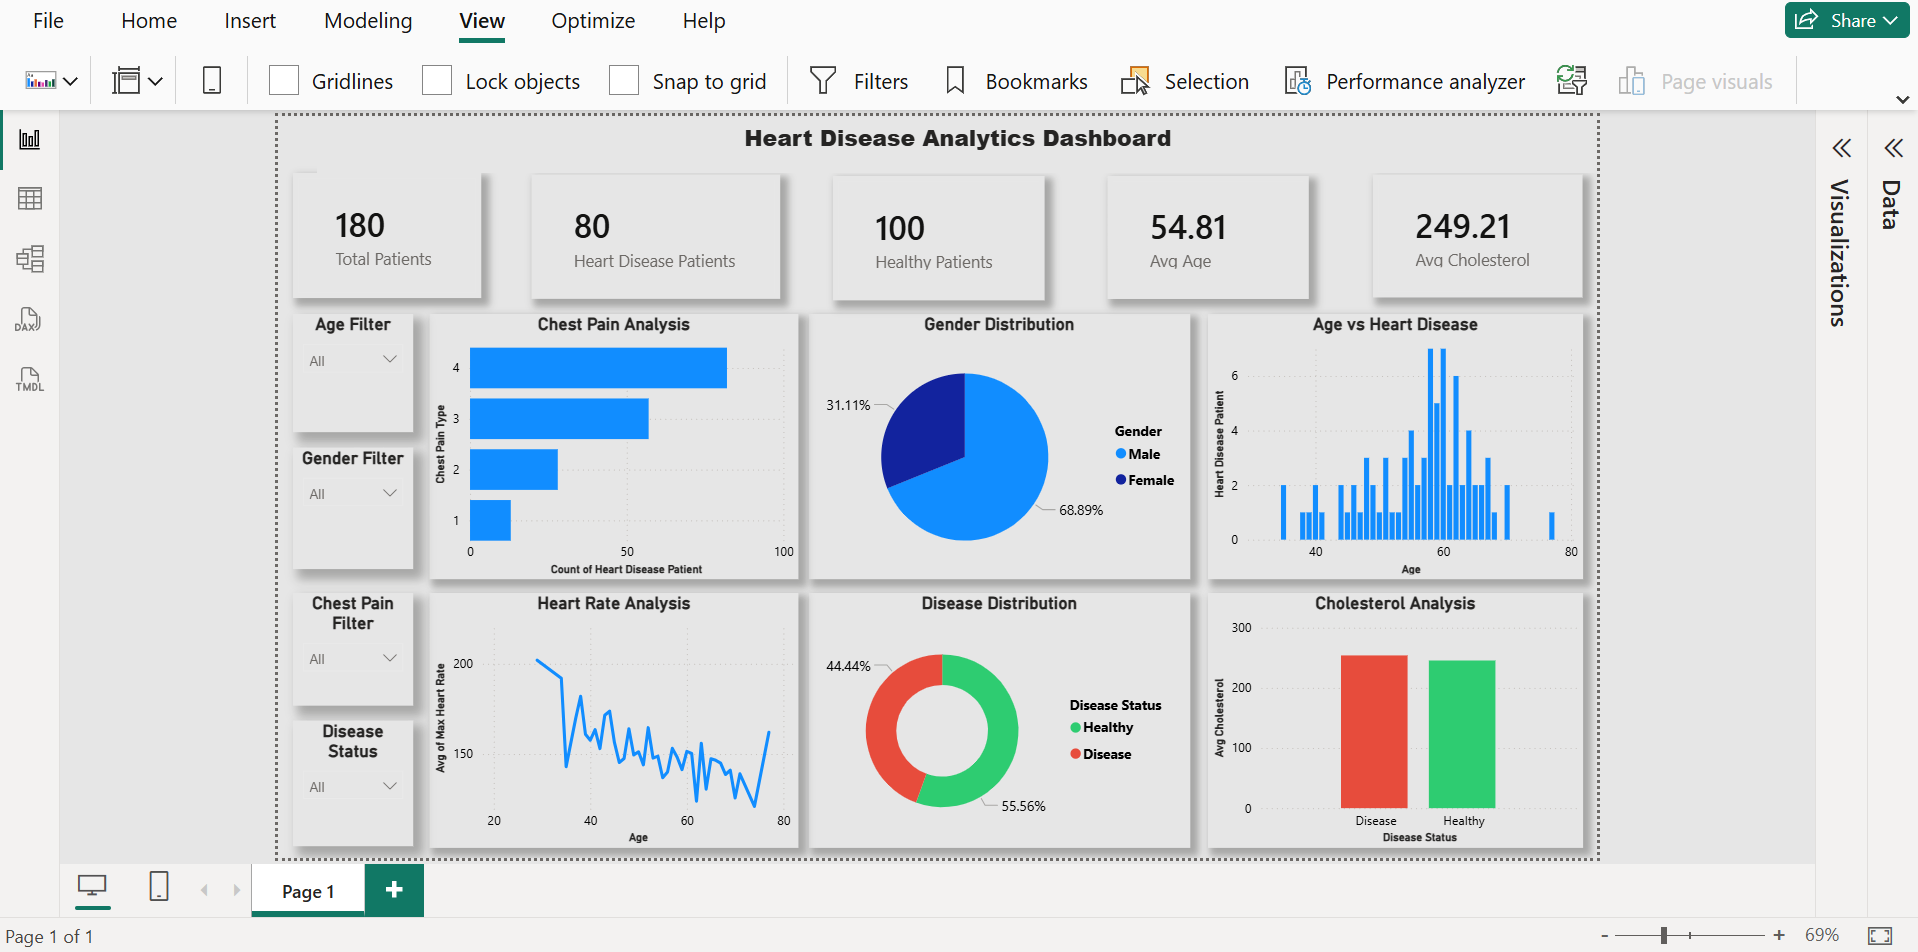

What the dashboard file says about the page in this screenshot:
{"tool":"powerbi","page":{"name":"Page 1","canvas":[1280,720],"ordinal":0},"visuals":[{"type":"cardVisual","title":"KPI Cards","fields":{"Data":["heart_disease.Total Patients"]},"box":[14.6,55.1,183,121.4],"z":0},{"type":"pieChart","title":"Gender Distribution","fields":{"Category":["heart_disease.sex"],"Y":["heart_disease.Total Patients"]},"box":[440.4,194.3,404.8,179.7],"z":1000},{"type":"clusteredColumnChart","title":"Age vs Heart Disease","fields":{"Category":["heart_disease.age"],"Y":["heart_disease.Heart Disease Patients"]},"box":[863,194.3,403.2,179.7],"z":2000},{"type":"cardVisual","title":"KPI Cards","fields":{"Data":["heart_disease.Heart Disease Patients"]},"box":[259.1,56.7,242.9,121.4],"z":3000},{"type":"cardVisual","title":"KPI Cards","fields":{"Data":["heart_disease.Healthy Patients"]},"box":[557,56.7,205.6,121.4],"z":4000},{"type":"cardVisual","title":"KPI Cards","fields":{"Data":["heart_disease.Avg Cholesterol"]},"box":[1062.2,56.7,204,121.4],"z":5000},{"type":"cardVisual","title":"KPI Cards","fields":{"Data":["heart_disease.Avg Age"]},"box":[820.9,56.7,194.3,121.4],"z":6000},{"type":"barChart","title":"Chest Pain Analysis","fields":{"Category":["heart_disease.chest_pain_type"],"Y":["CountNonNull(heart_disease.heart_disease_present)"]},"box":[14.6,194.3,417.8,179.7],"z":7000},{"type":"donutChart","title":"Disease Distribution","fields":{"Category":["heart_disease.heart_disease_present"],"Y":["heart_disease.Total Patients"]},"box":[440.4,387,409.7,205.6],"z":8000},{"type":"lineChart","title":"Heart Rate Analysis","fields":{"Category":["heart_disease.age"],"Y":["Avg(heart_disease.max_heart_rate_achieved)"]},"box":[14.6,387,416.1,205.6],"z":9000},{"type":"textbox","box":[37.2,0,1243.6,55.1],"z":10000},{"type":"slicer","title":"Age Filter","fields":{"Values":["heart_disease.age"]},"box":[14.6,599.1,244.5,113.3],"z":11000},{"type":"slicer","title":"Gender Filter","fields":{"Values":["heart_disease.sex"]},"box":[302.8,599.1,275.3,113.3],"z":12000},{"type":"slicer","title":"Chest Pain Filter","fields":{"Values":["heart_disease.chest_pain_type"]},"box":[646.1,599.1,272,113.3],"z":13000},{"type":"slicer","title":"Disease Status","fields":{"Values":["heart_disease.heart_disease_present"]},"box":[979.6,599.1,286.6,113.3],"z":14000},{"type":"clusteredColumnChart","title":"Cholesterol Analysis","fields":{"Category":["heart_disease.heart_disease_present"],"Y":["heart_disease.Avg Cholesterol"]},"box":[863,387,403.2,205.6],"z":15000}]}

Visuals, with their boxes on the page's 1280x720 design canvas (x1, y1, x2, y2). These are canvas units, not pixel positions in the 1918x952 screenshot, which may show the page scaled, cropped or inside an application window:
"KPI Cards" cardVisual: box(15, 55, 198, 176)
"Gender Distribution" pieChart: box(440, 194, 845, 374)
"Age vs Heart Disease" clusteredColumnChart: box(863, 194, 1266, 374)
"KPI Cards" cardVisual: box(259, 57, 502, 178)
"KPI Cards" cardVisual: box(557, 57, 763, 178)
"KPI Cards" cardVisual: box(1062, 57, 1266, 178)
"KPI Cards" cardVisual: box(821, 57, 1015, 178)
"Chest Pain Analysis" barChart: box(15, 194, 432, 374)
"Disease Distribution" donutChart: box(440, 387, 850, 593)
"Heart Rate Analysis" lineChart: box(15, 387, 431, 593)
textbox: box(37, 0, 1281, 55)
"Age Filter" slicer: box(15, 599, 259, 712)
"Gender Filter" slicer: box(303, 599, 578, 712)
"Chest Pain Filter" slicer: box(646, 599, 918, 712)
"Disease Status" slicer: box(980, 599, 1266, 712)
"Cholesterol Analysis" clusteredColumnChart: box(863, 387, 1266, 593)
